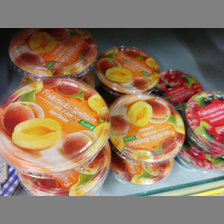jam: (1, 78, 109, 173), (109, 94, 187, 162), (10, 29, 98, 76), (96, 44, 162, 94)
